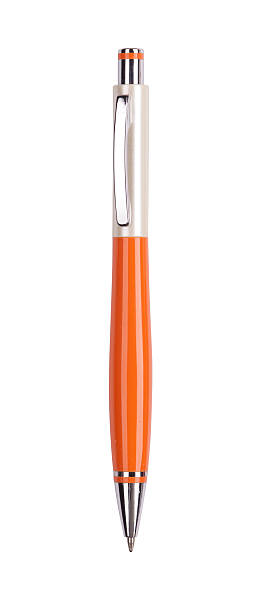pen: (90, 36, 175, 567)
